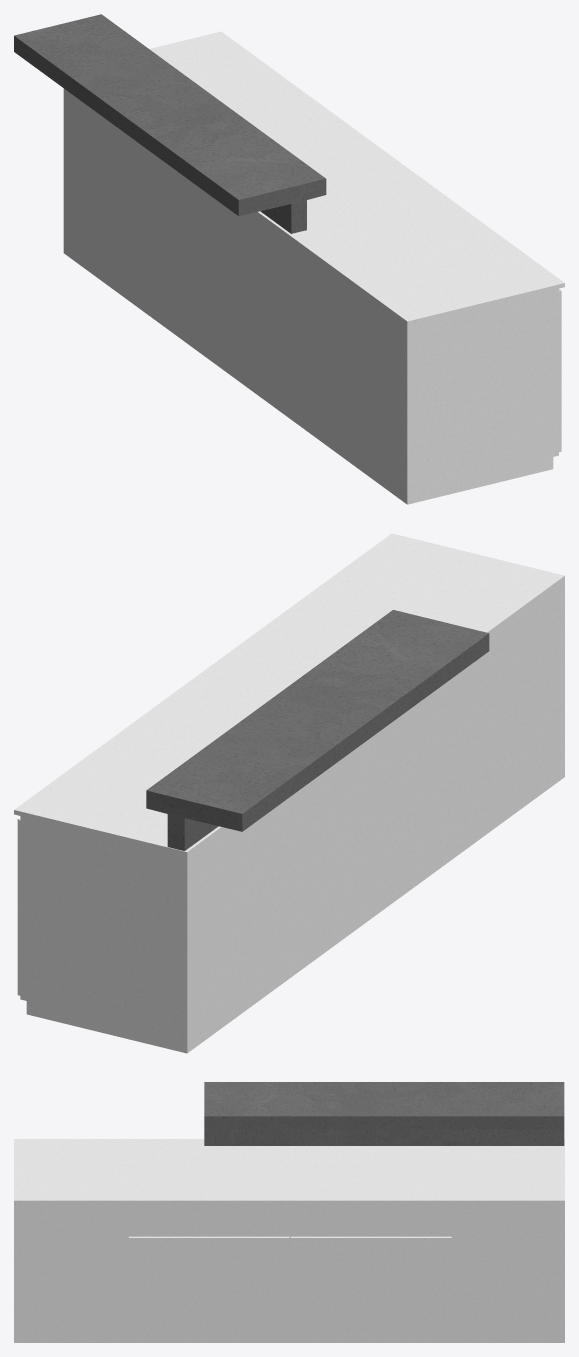
The model's file is barra.obj.
The picture shows the model from 3 angles, top to bottom: view 1: azimuth 30°, elevation 25°; view 2: azimuth 150°, elevation 25°; view 3: azimuth 270°, elevation 25°; orthographic projection. The views are drawn at different scales.
Parts seen in each view (by area): view 1: Object003, Object002; view 2: Object003, Object002; view 3: Object003, Object002.
Part boxes in pixels (x1,y1,x2,y2): Object003: (63, 31, 564, 504); Object002: (14, 14, 326, 233); Object003: (14, 533, 564, 1053); Object002: (146, 610, 489, 850); Object003: (14, 1139, 564, 1342); Object002: (204, 1082, 564, 1145).
Size of the model in its own units: 107 by 113 by 306.
Materials: 2 (2 with a texture image).
